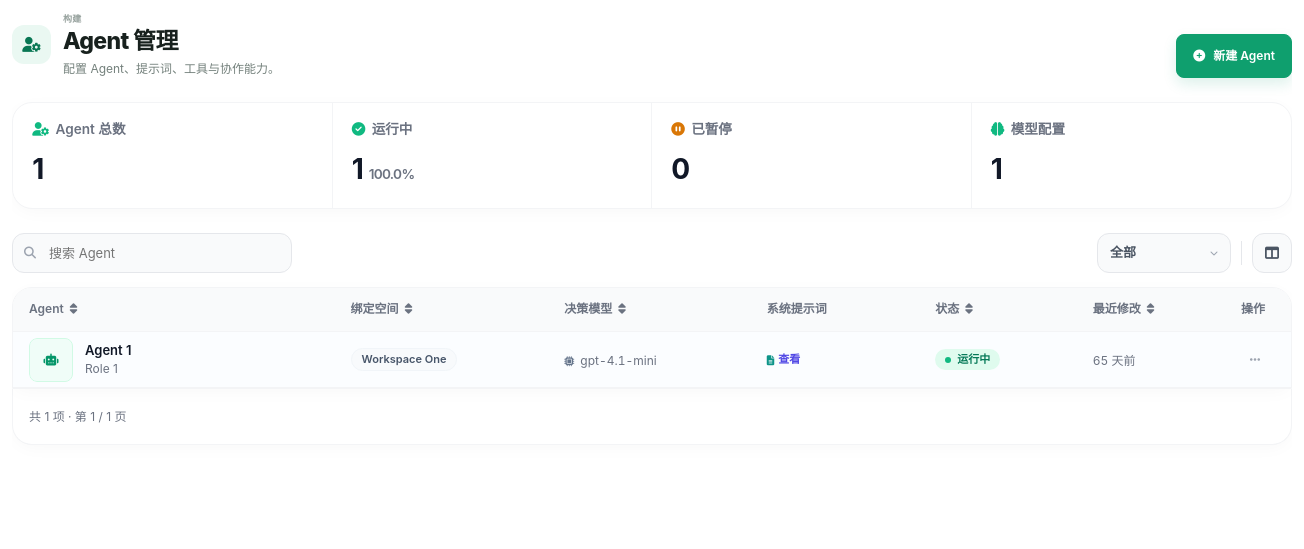
it: agents view behavior › keeps Agent row actions menu-only including sole delete without promoting it
Step 1. Click the button named "更多操作" → click(1255, 360), box [1237, 342, 1273, 378]
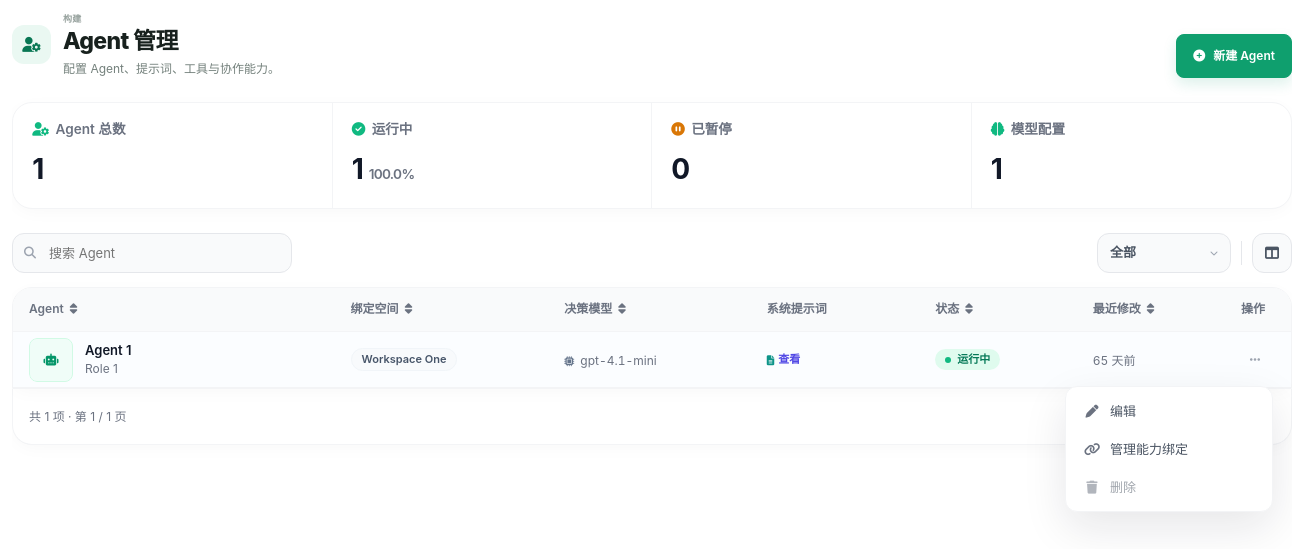
Check: the menu named "更多操作" is shown, box [1065, 386, 1273, 512]
Check: the menu item "删除" is disabled, box [1072, 469, 1266, 505]
